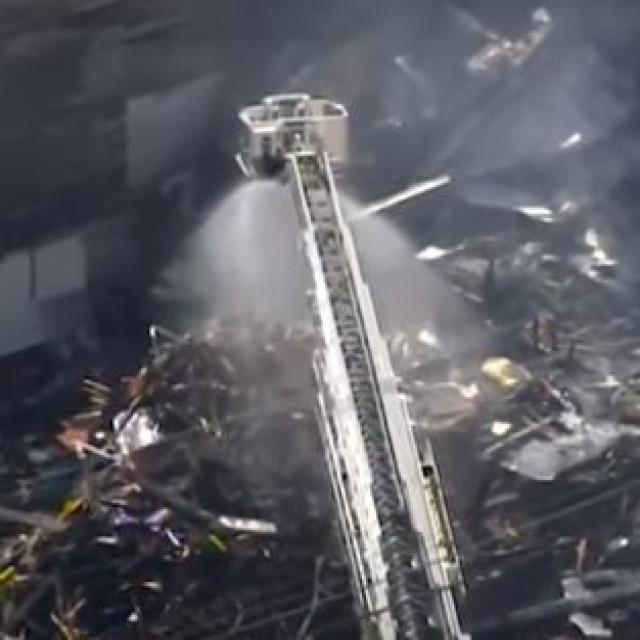collapsed_building: (31, 328, 638, 628)
